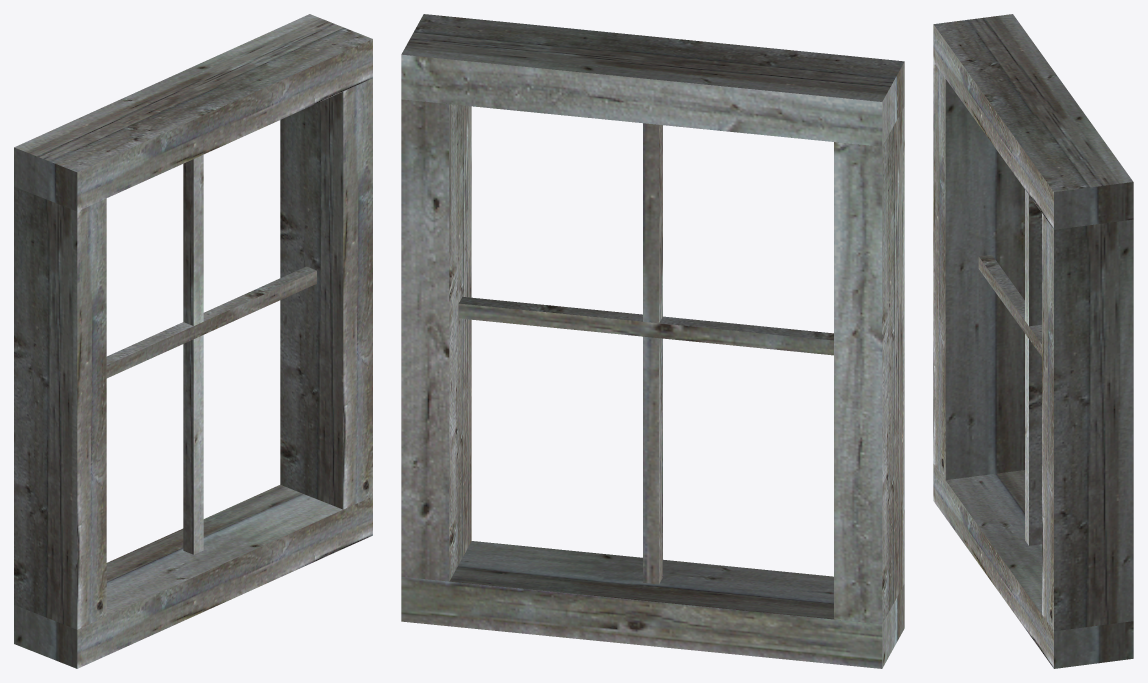
Rendered from window4.fbx.
3 renders of one model, left to right at view 1: azimuth 30°, elevation 25°; view 2: azimuth 150°, elevation 25°; view 3: azimuth 270°, elevation 25°, orthographic. The views are drawn at different scales.
Parts seen in each view (by area): view 1: window4; view 2: window4; view 3: window4.
Boxes of the visible parts, x1,y1,x2,y2 form: window4: [14, 14, 372, 668]; window4: [401, 14, 904, 668]; window4: [933, 14, 1133, 668].
Bounding box in the file's own units: 12180 × 15200 × 5780.
